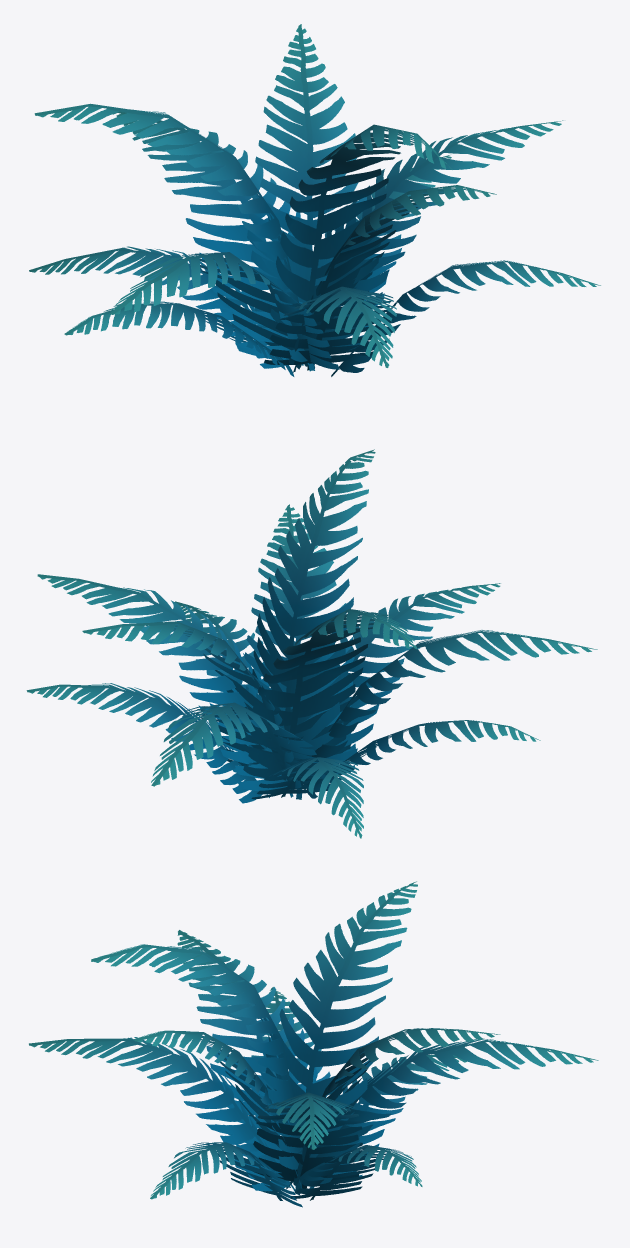
3 views of the same model, one above another, from view 1: azimuth 30°, elevation 25°; view 2: azimuth 150°, elevation 25°; view 3: azimuth 270°, elevation 25° (orthographic). The views are drawn at different scales.
Parts seen in each view (by area): view 1: submesh_0; view 2: submesh_0; view 3: submesh_0.
Part boxes in pixels (x1,y1,x2,y2): submesh_0: (29,24,600,376); submesh_0: (26,449,597,838); submesh_0: (29,881,598,1207).
Bounding box in the file's own units: 1.34 × 0.7145 × 1.42.
Materials: 1 (1 with a texture image).
